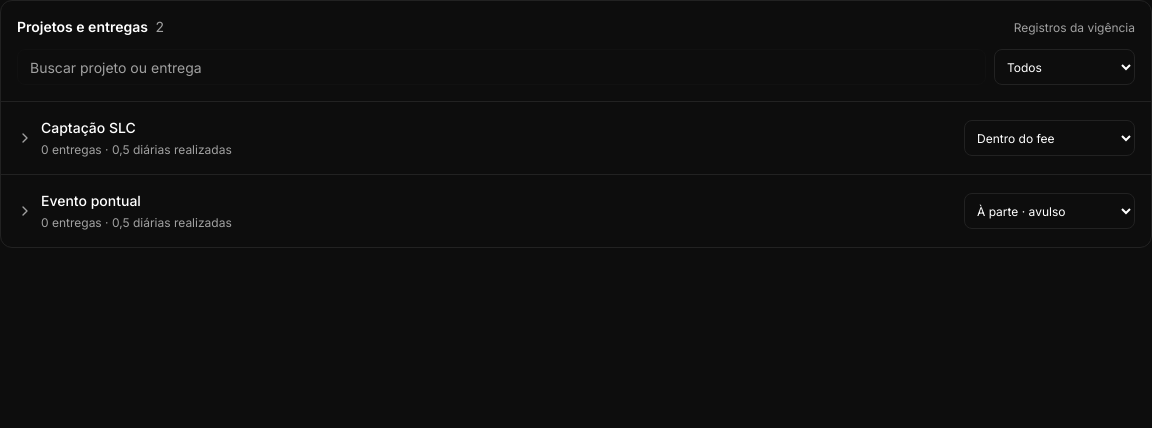
Test: mostra projeto que só tem diária e avisa quando é compartilhada
This screenshot has width=1152, height=428.
What coordinates should you click on to do the following:
click the button "Captação SLC 0 entregas · 0,5 diárias realizadas"
I would click on:
 (88, 128)
Its box is x1=17 y1=118 x2=952 y2=158.
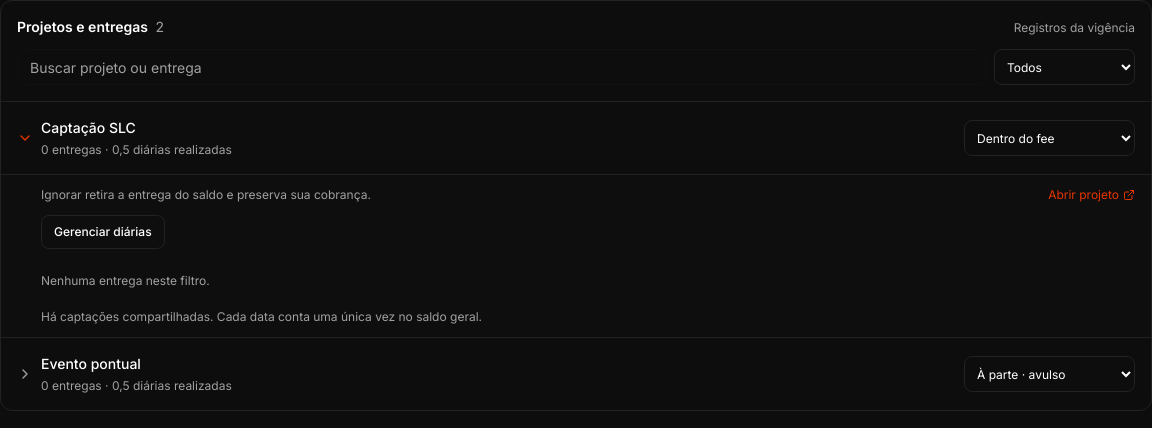
Check: the text "0 entregas · 0,5 diárias realizadas" is shown 2 times, box x1=41 y1=142 x2=232 y2=158; x1=41 y1=378 x2=232 y2=394
Check: the text "Há captações compartilhadas" is shown, box x1=41 y1=309 x2=482 y2=324
